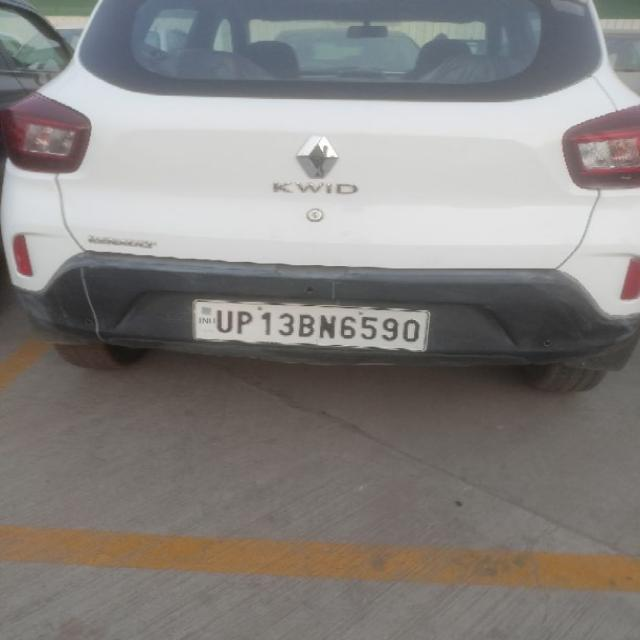license_plate: (190, 298, 431, 352)
